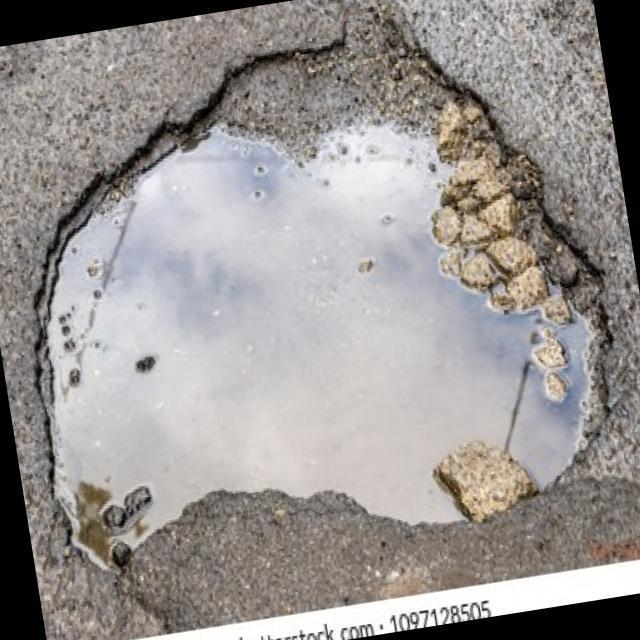Pothole: (37, 2, 640, 633)
